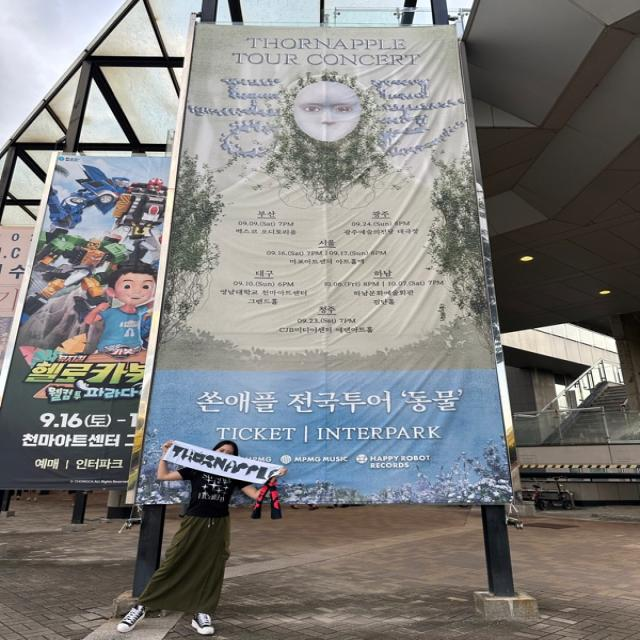shortsleeve: (176, 465, 251, 517)
skirt: (138, 513, 230, 612)
